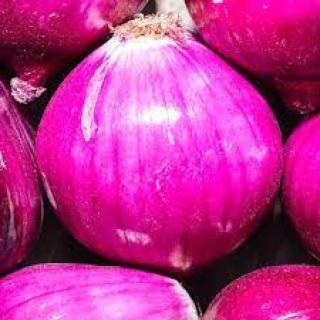Bawang Merah: (34, 12, 286, 276)
